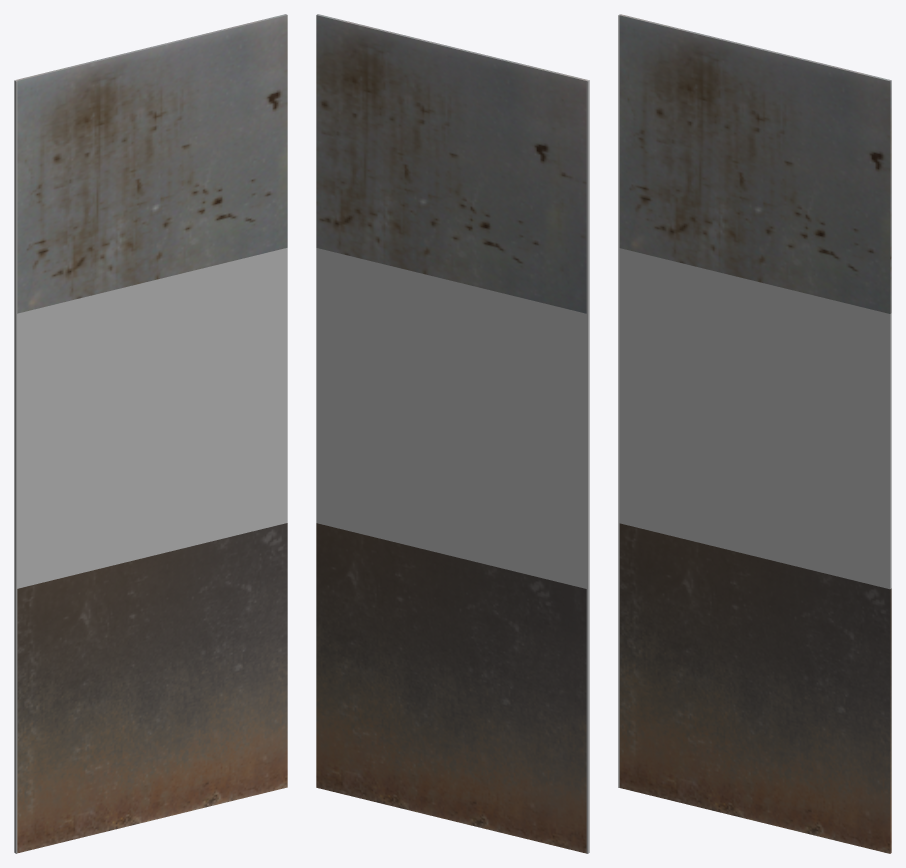
The model's file is pub_sink05.fbx.
The picture shows the model from 3 angles, left to right: view 1: azimuth 30°, elevation 25°; view 2: azimuth 150°, elevation 25°; view 3: azimuth 330°, elevation 25°; orthographic projection.
Parts seen in each view (by area): view 1: pub_sink05; view 2: pub_sink05; view 3: pub_sink05.
Part boxes in pixels (x1,y1,x2,y2): pub_sink05: (14, 14, 287, 853); pub_sink05: (316, 14, 589, 853); pub_sink05: (618, 14, 891, 853).
Bounding box in the file's own units: 125 × 340 × 1.39.
